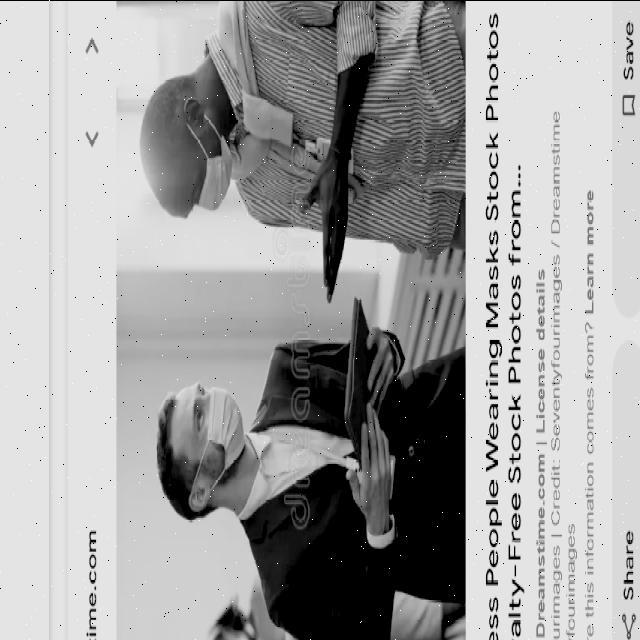face_mask: (170, 382, 255, 509), (165, 89, 240, 222)
